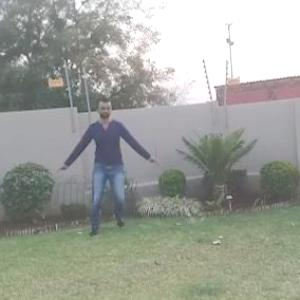land: (55, 102, 157, 236)
